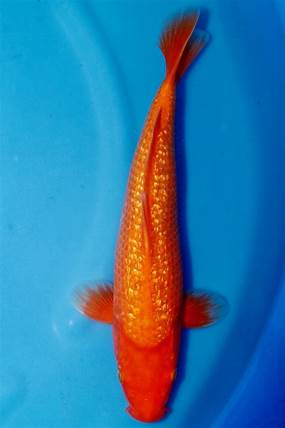red: (68, 8, 230, 423)
